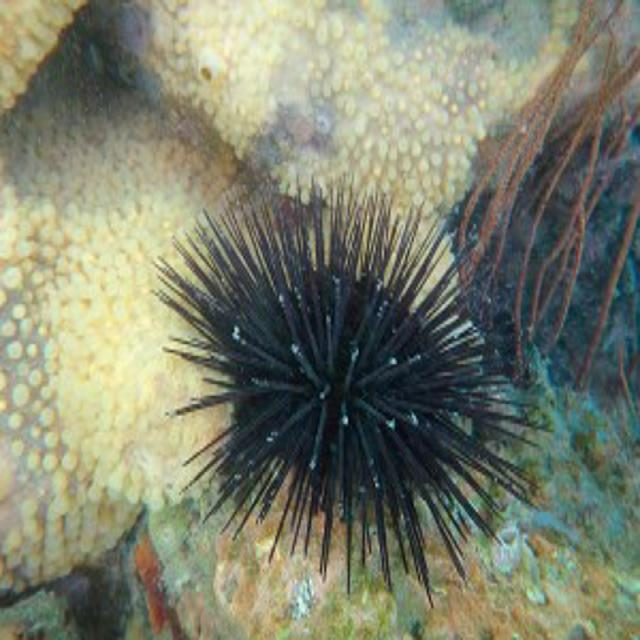Urchin: (145, 147, 558, 596)
